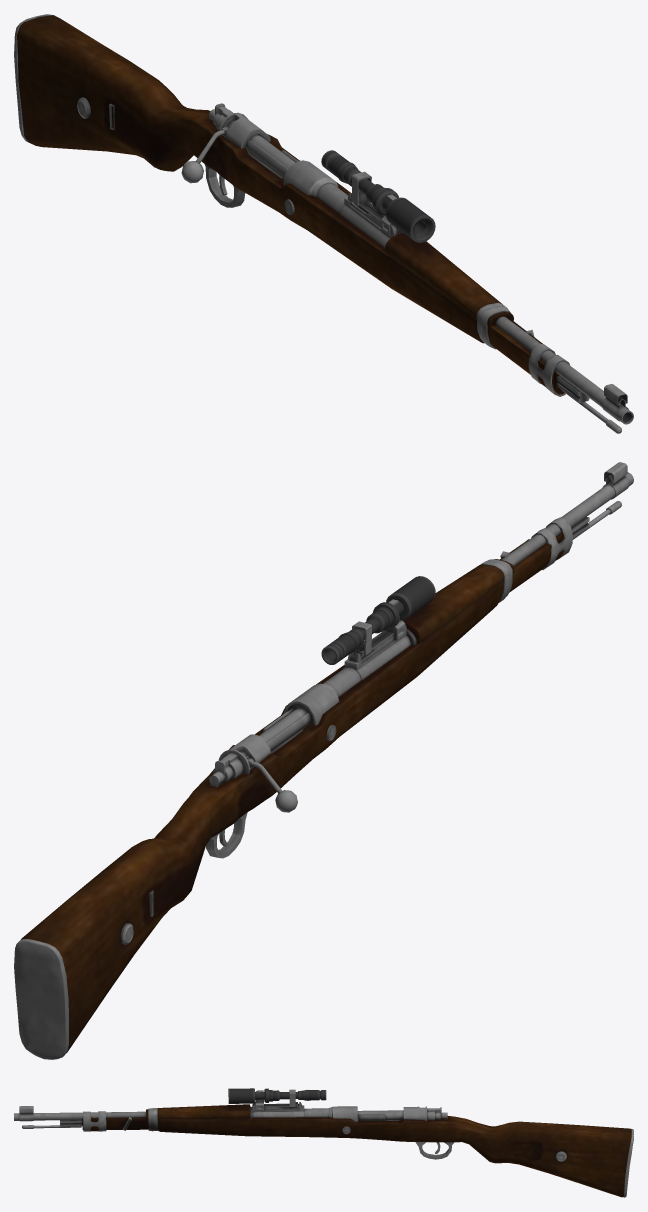
The model's file is Sniper_K98.fbx.
3 views of the same model, one above another, from view 1: azimuth 30°, elevation 25°; view 2: azimuth 150°, elevation 25°; view 3: azimuth 270°, elevation 25° (orthographic). The views are drawn at different scales.
Parts seen in each view (by area): view 1: GunMesh; view 2: GunMesh; view 3: GunMesh.
Boxes of the visible parts, left/top/right/bottom form: GunMesh: left=14, top=14, right=633, bottom=433; GunMesh: left=14, top=462, right=633, bottom=1059; GunMesh: left=14, top=1088, right=633, bottom=1197.
Bounding box in the file's own units: 0.0877 × 0.2115 × 1.11.
Materials: 1 (1 with a texture image).
